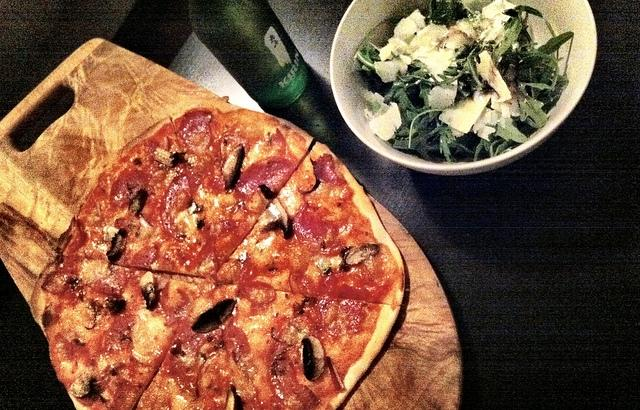mushroom: (191, 300, 237, 334), (258, 198, 293, 239), (302, 336, 325, 380), (222, 146, 246, 188), (344, 242, 381, 266), (139, 271, 156, 309), (128, 189, 148, 217), (107, 234, 126, 262), (225, 385, 244, 410), (152, 148, 176, 167), (105, 296, 127, 316), (70, 380, 91, 398), (189, 202, 202, 214)
